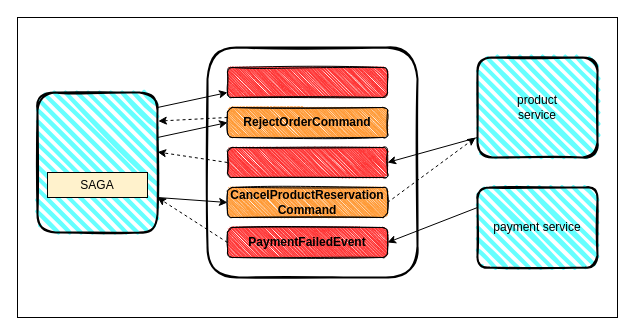
Some shapes in this 635 by 335 pixel diagram are drawn without their labels. Here are the shapes that lost their labels. From the top down, the box of each, then its label:
(226, 66, 388, 98): OrderRejactedEvent
(36, 91, 158, 233): order-service
(226, 146, 388, 178): ProductReservation CancelledEvent
